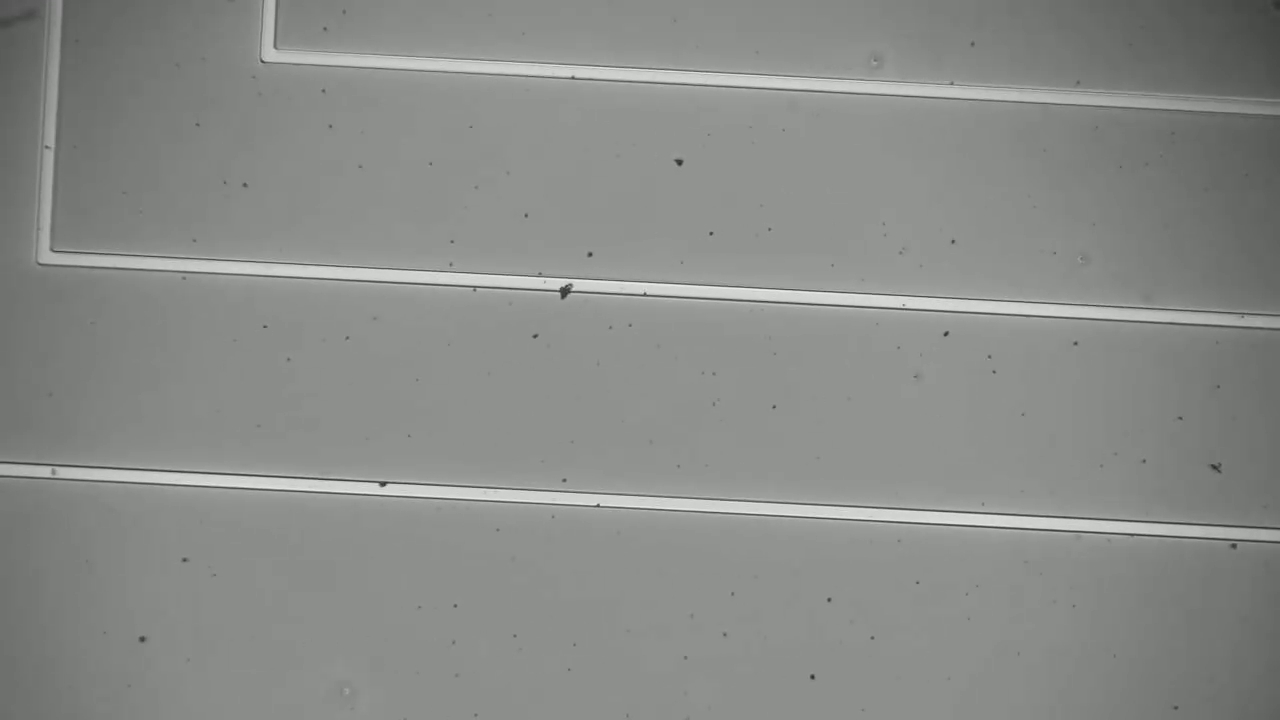stains_enbedded: (556, 267, 581, 305)
